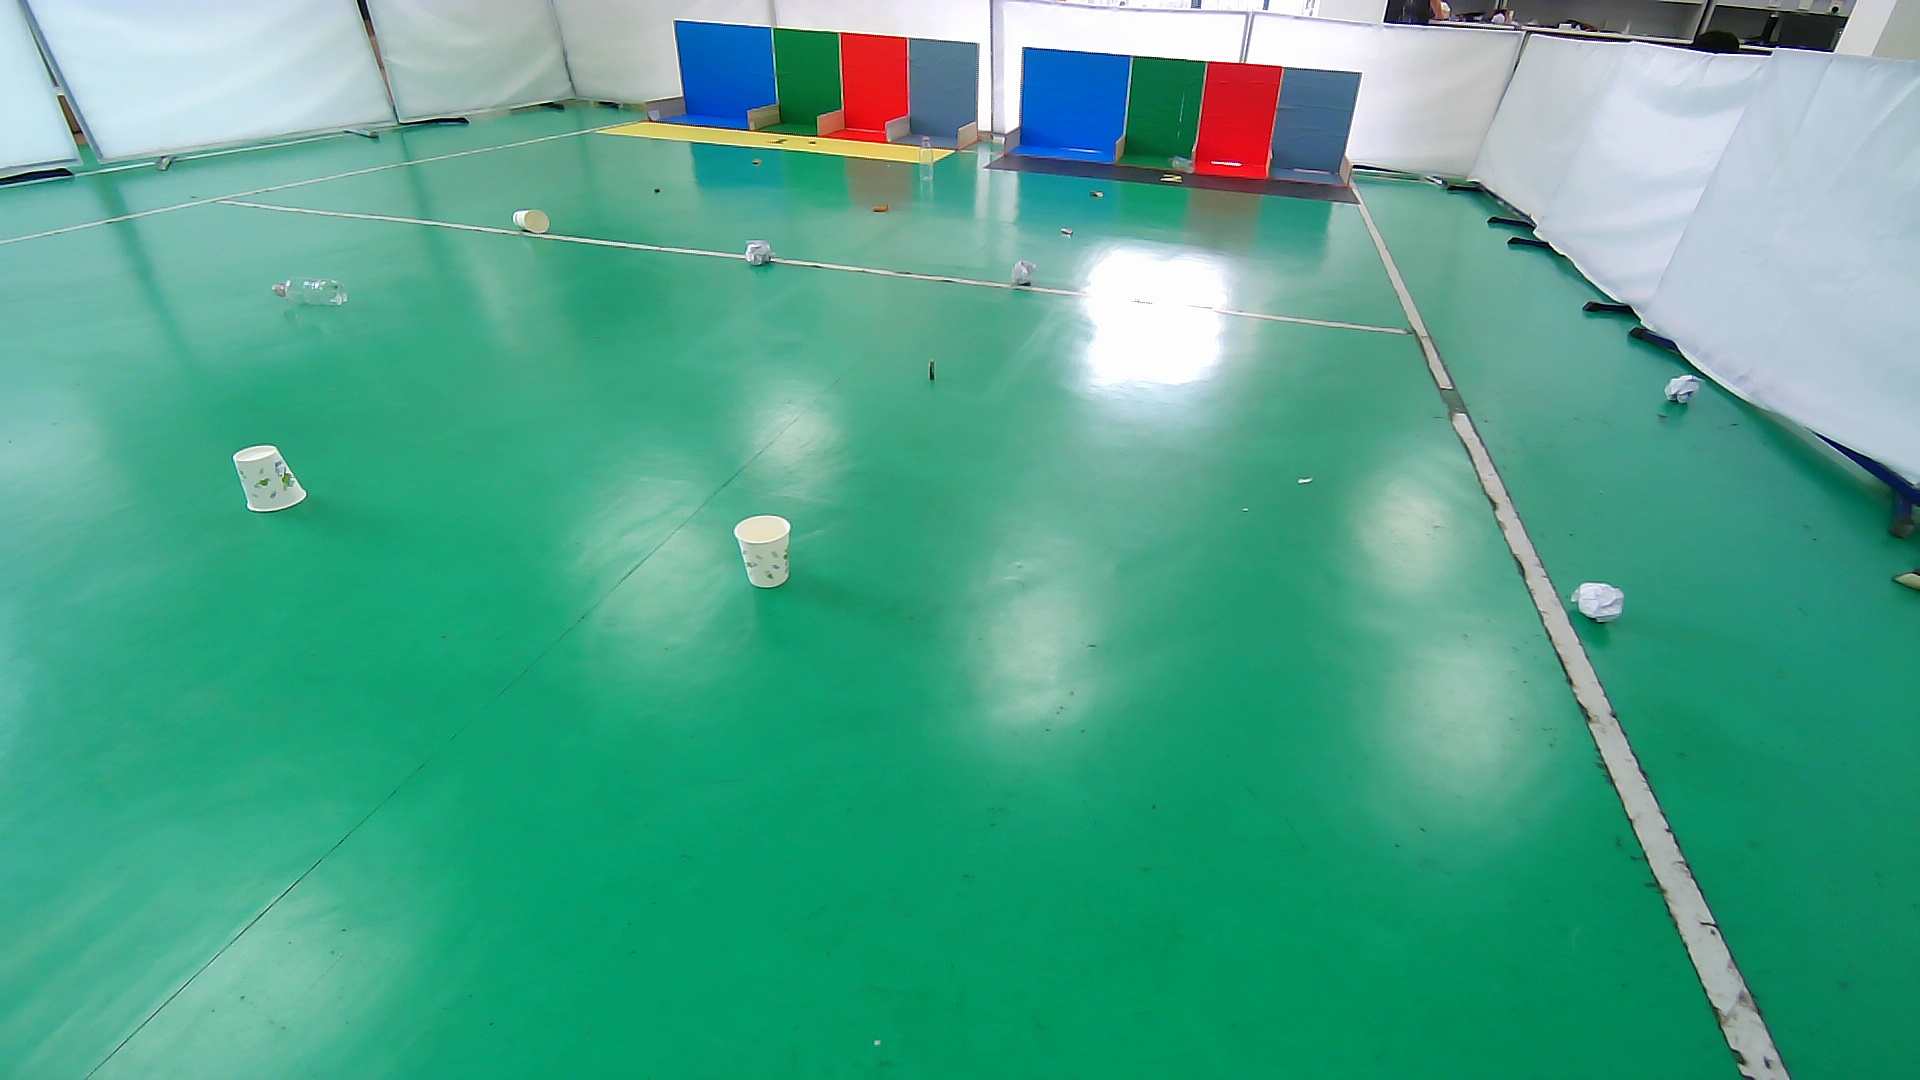battery: (920, 355, 944, 388), (1054, 223, 1081, 243), (646, 181, 670, 200)
bottle: (269, 272, 353, 313), (916, 135, 936, 183)
orangepeel: (866, 199, 893, 218)
papercup: (229, 436, 313, 517), (729, 509, 798, 595), (510, 204, 553, 237)
spitball: (1569, 576, 1627, 629), (1662, 371, 1702, 410), (741, 236, 777, 272), (1007, 258, 1040, 291)
